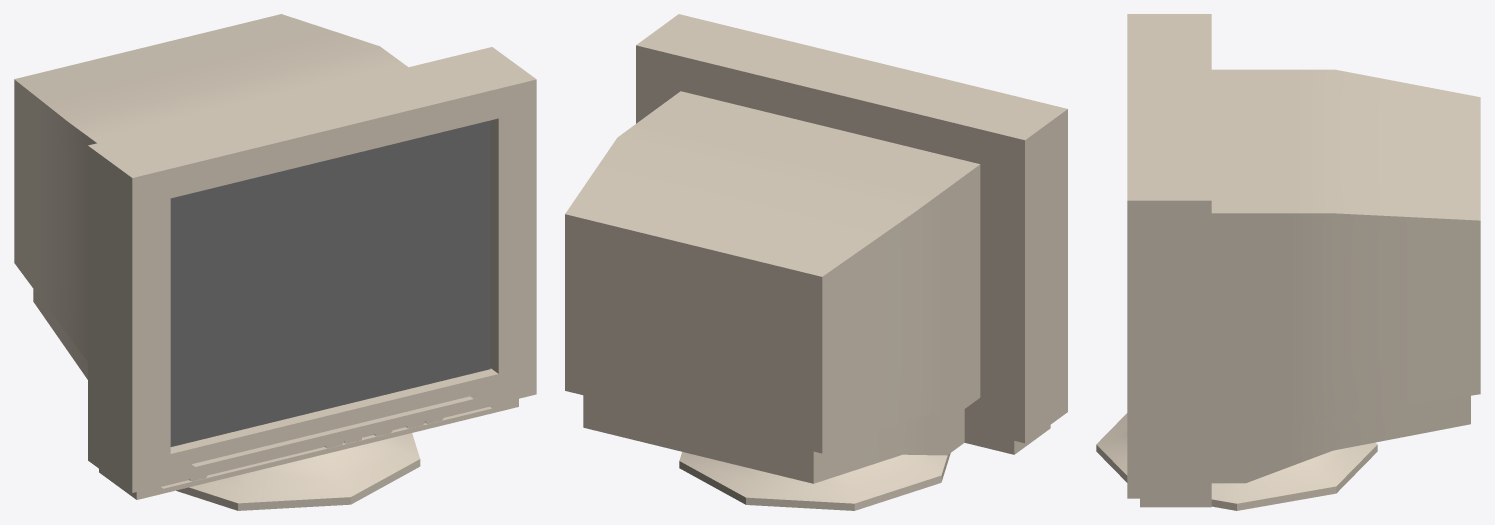
Rendered from 3D_pc_placeholder_high_poly.fbx.
The picture shows the model from 3 angles, left to right: view 1: azimuth 30°, elevation 25°; view 2: azimuth 150°, elevation 25°; view 3: azimuth 270°, elevation 25°; orthographic projection. The views are drawn at different scales.
Parts seen in each view (by area): view 1: pc_main, pc_screen, pc_support; view 2: pc_main, pc_support; view 3: pc_main, pc_support.
Boxes of the visible parts, x1,y1,x2,y2 form: pc_main: (14,14,536,499); pc_screen: (170,120,490,446); pc_support: (176,433,420,510); pc_main: (565,14,1067,483); pc_support: (679,452,950,510); pc_main: (1127,14,1480,507); pc_support: (1096,413,1377,510).
Bounding box in the file's own units: 2.01 × 1.73 × 1.75.
